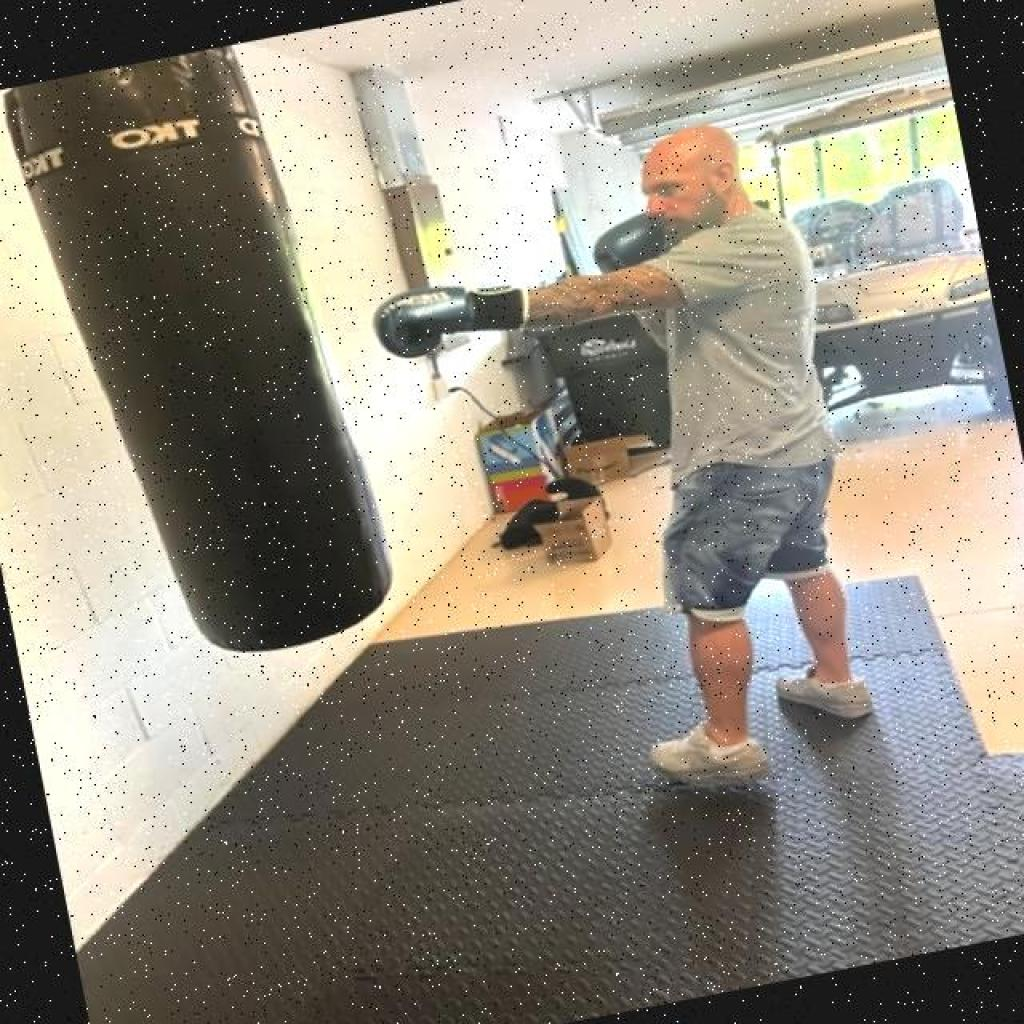jab: (322, 94, 819, 396)
